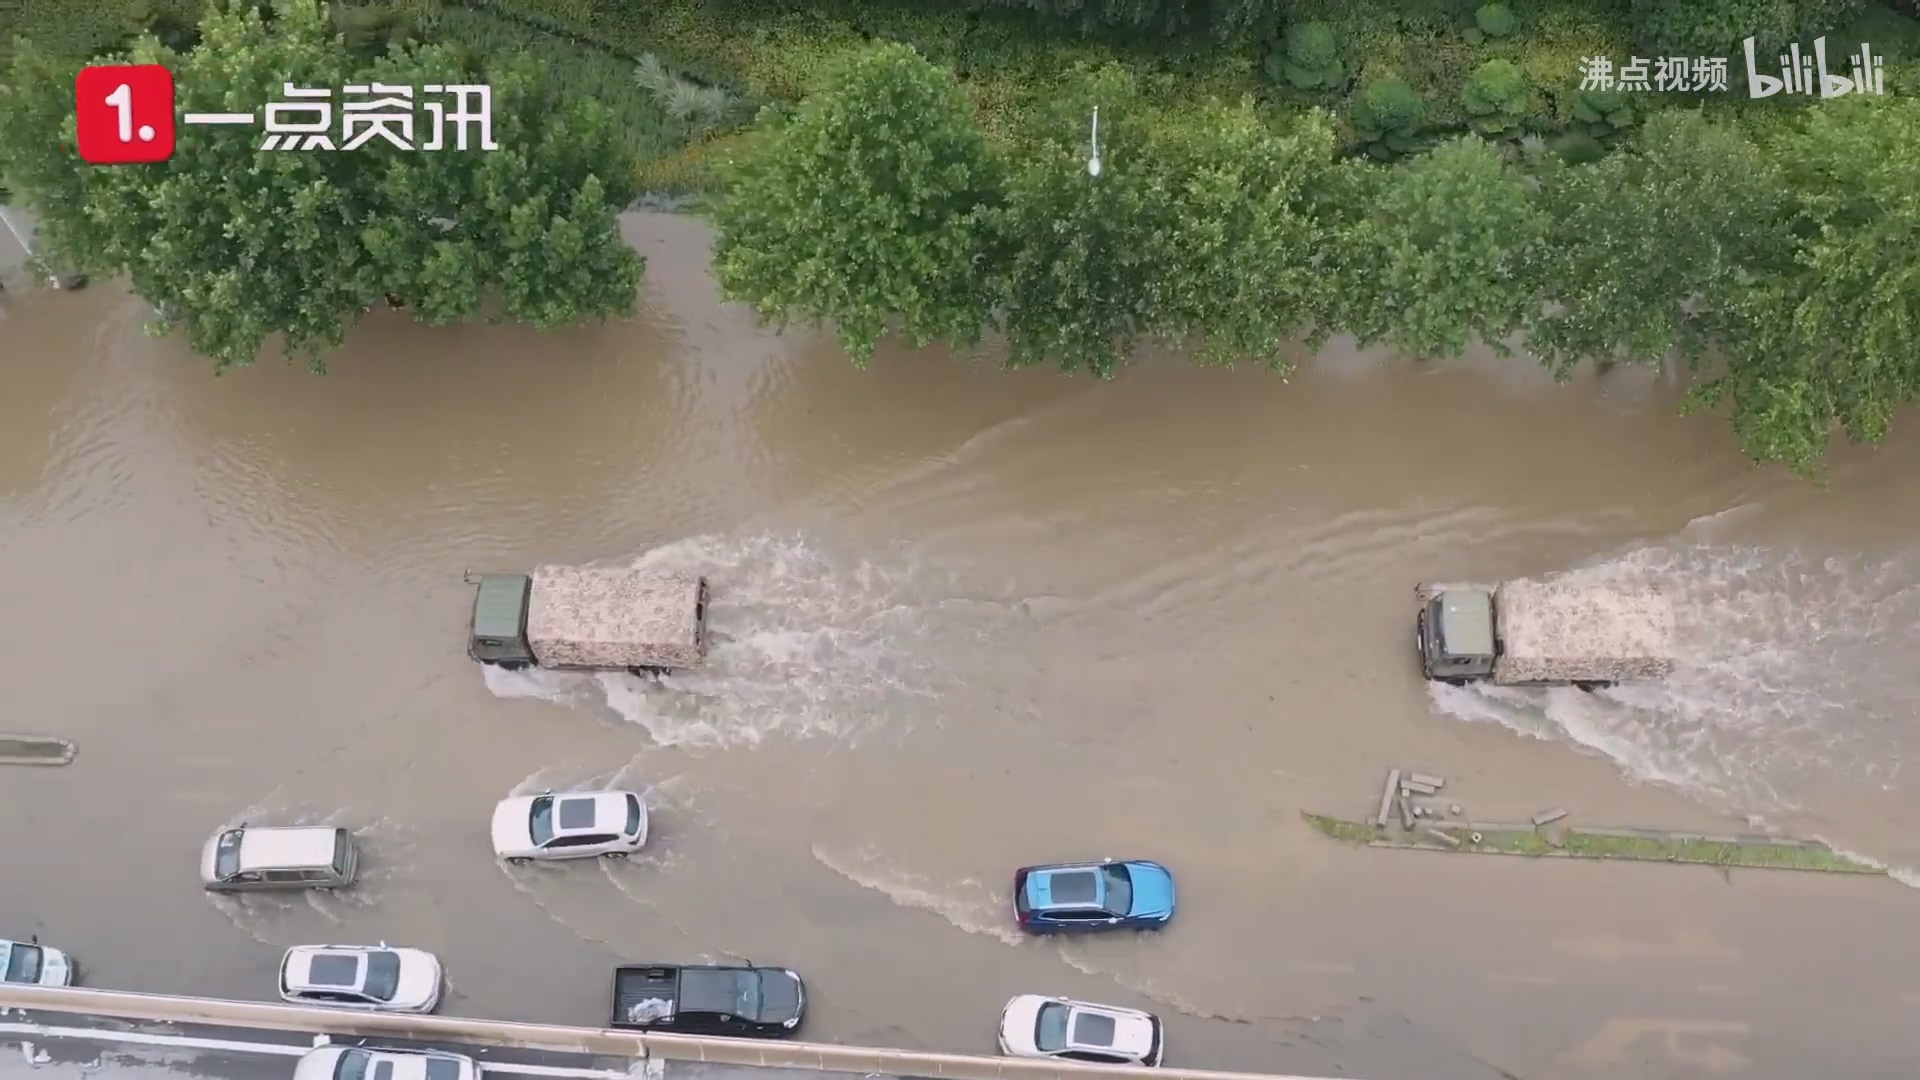puddle: (30, 309, 1903, 1065)
